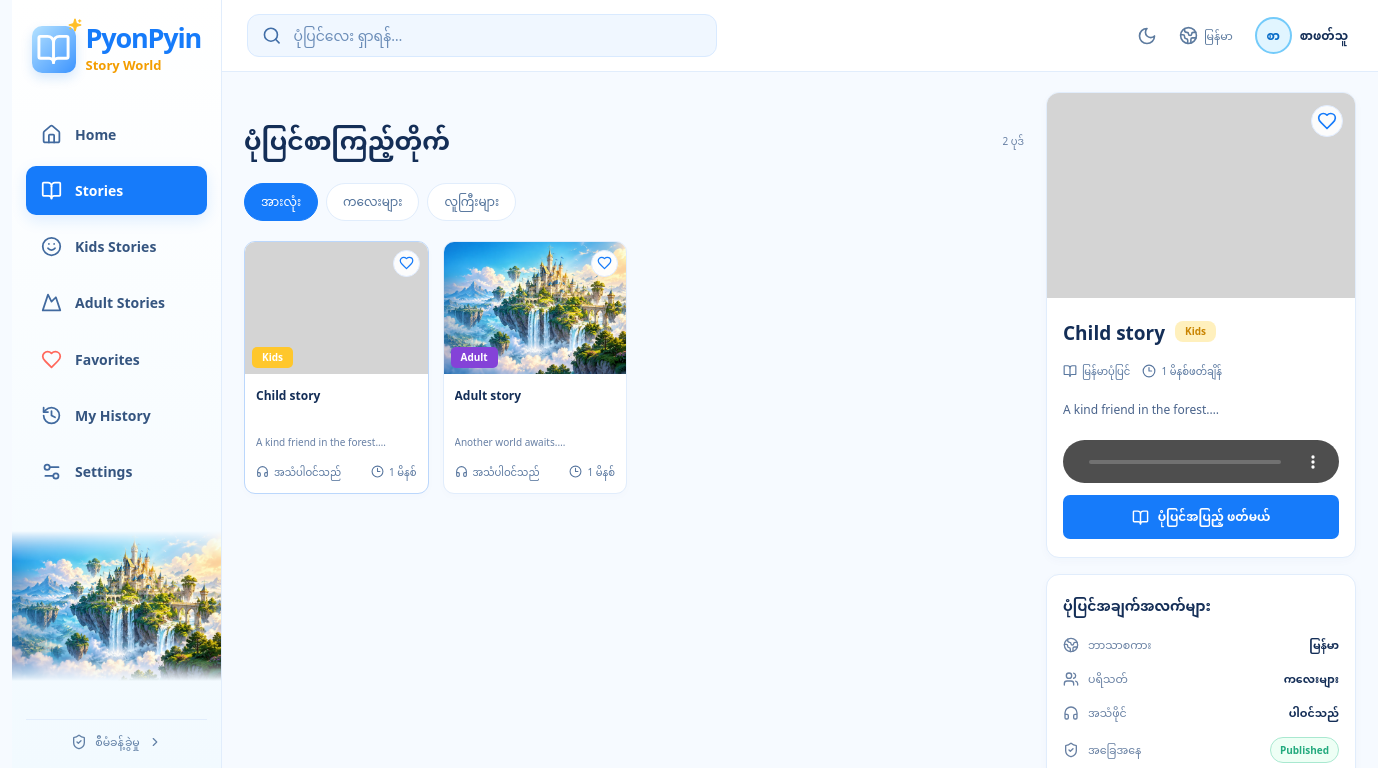
Test: shows uploaded artwork and keeps category filtering connected to real stories
The image size is (1378, 768).
Click the button "ကလေးများ" at (373, 202), box [326,183,420,221]
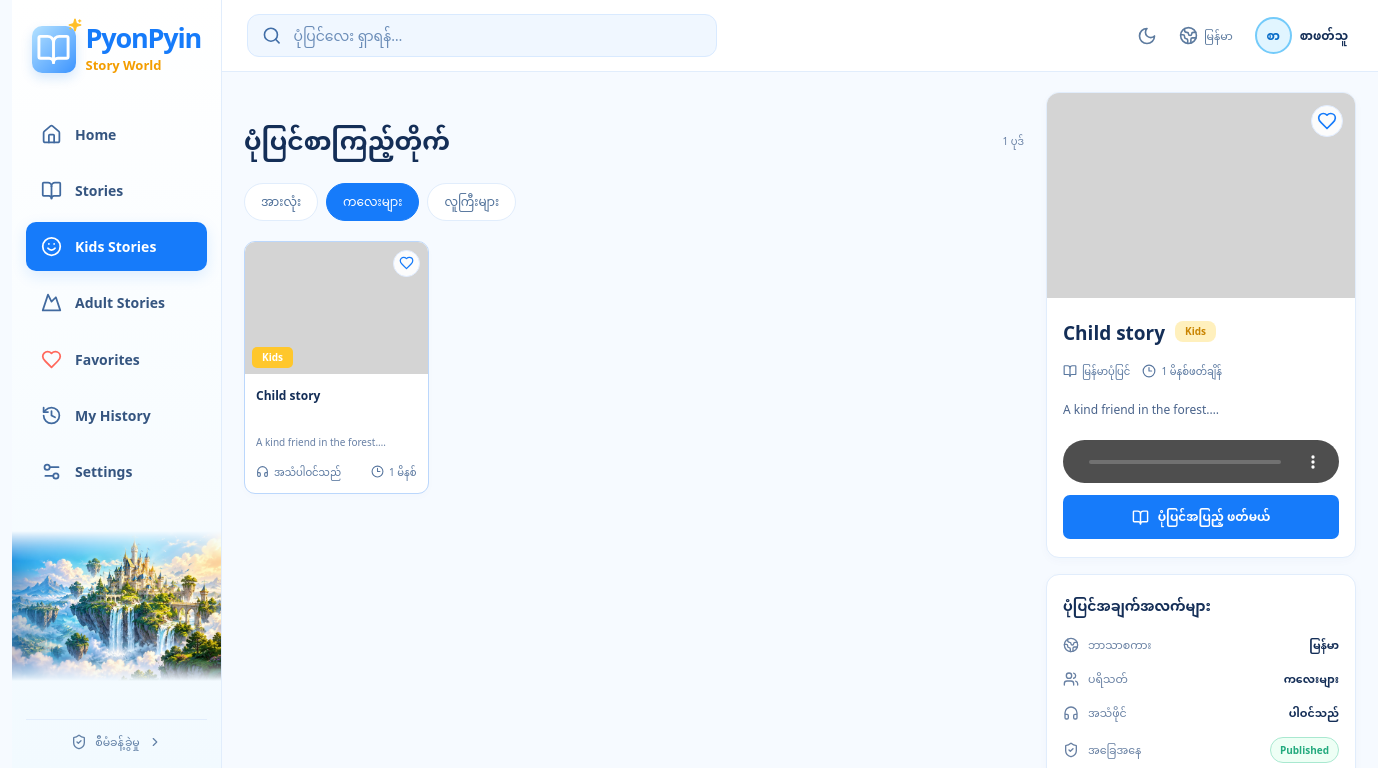
Expected: the link "Adult story" is gone
